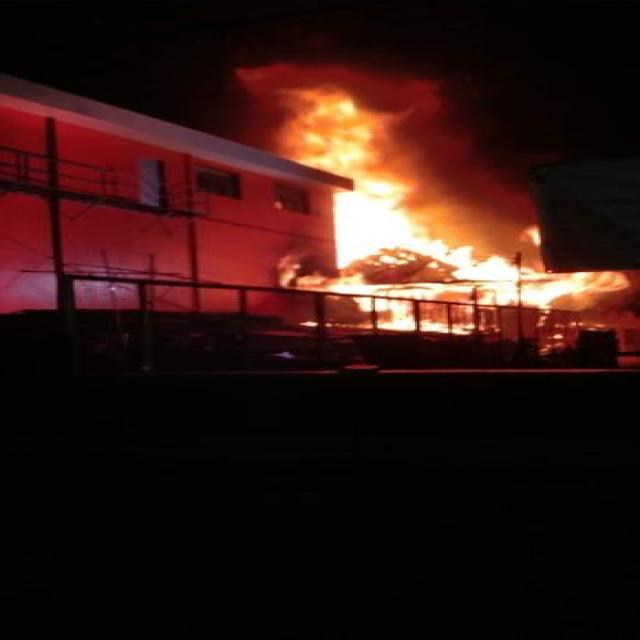Fire: (274, 79, 630, 332)
